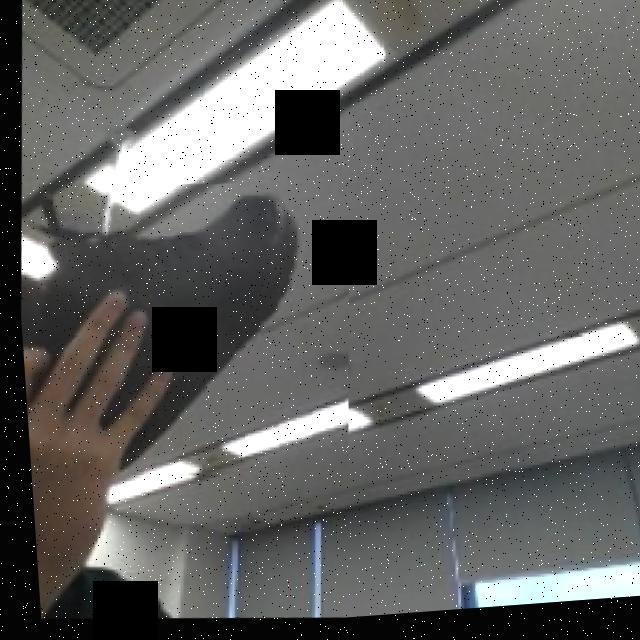shoe: (10, 165, 361, 503)
